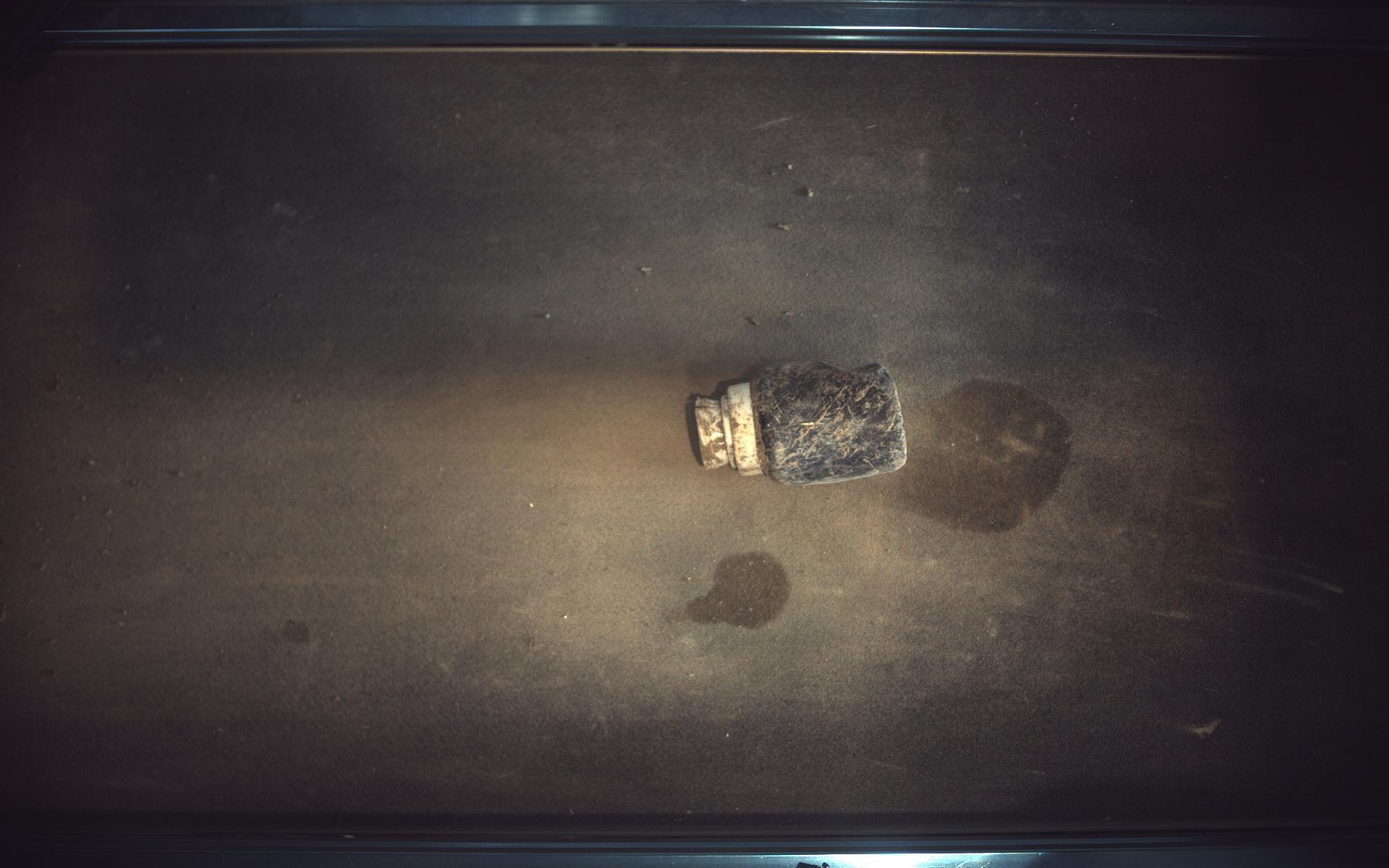general_w: (694, 362, 909, 485)
